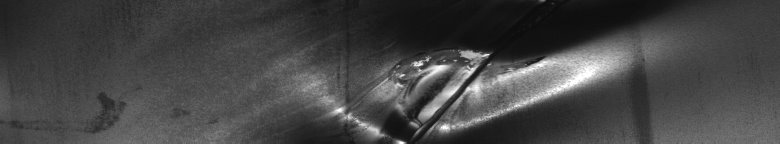ke: (330, 40, 592, 136)
